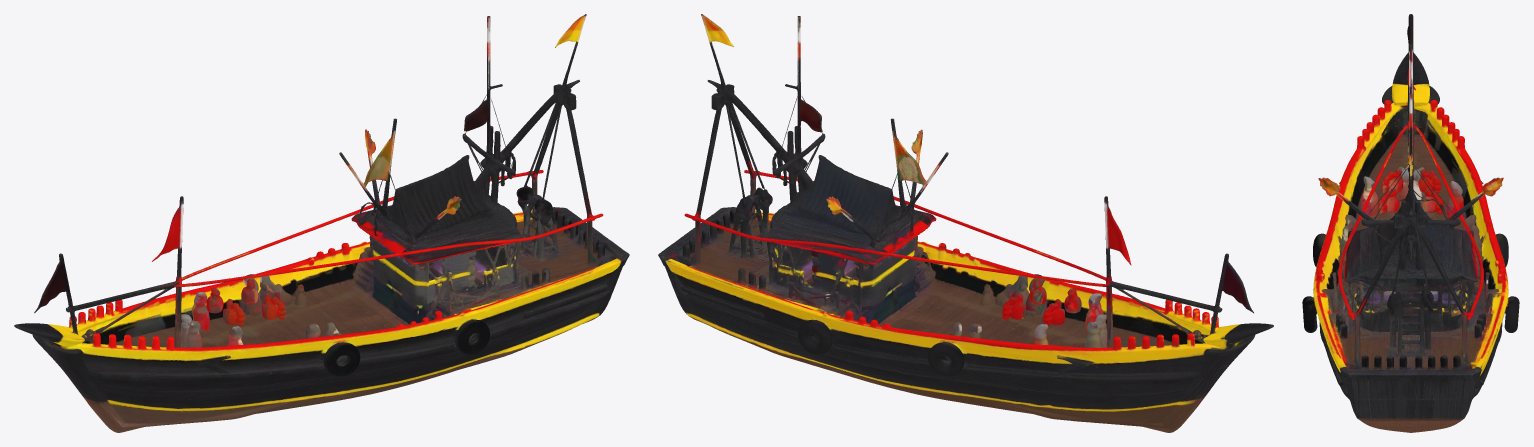
Rendered from boat.glb.
3 views of the same model, side by side, from view 1: azimuth 30°, elevation 25°; view 2: azimuth 150°, elevation 25°; view 3: azimuth 270°, elevation 25° (orthographic). The views are drawn at different scales.
Bounding box in the file's own units: 1.9 × 1.02 × 0.6291.
1 material, 1 textured.
